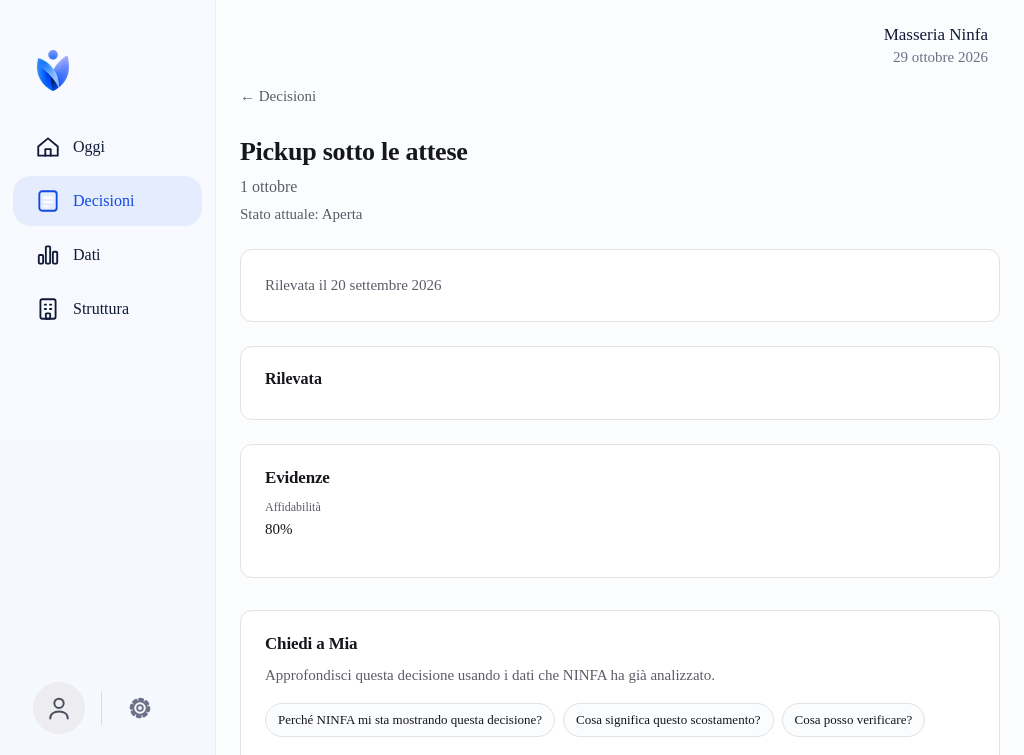
DecisionDetailScreen - the sidebar shell (Home UI V1) › keeps logout reachable through the profile menu
The width and height of the screenshot is (1024, 755).
Check: the heading "Pickup sotto le attese" is shown, box [240,137,468,166]
Click the button named "Profilo e account".
click(59, 708)  # box [33,682,85,734]
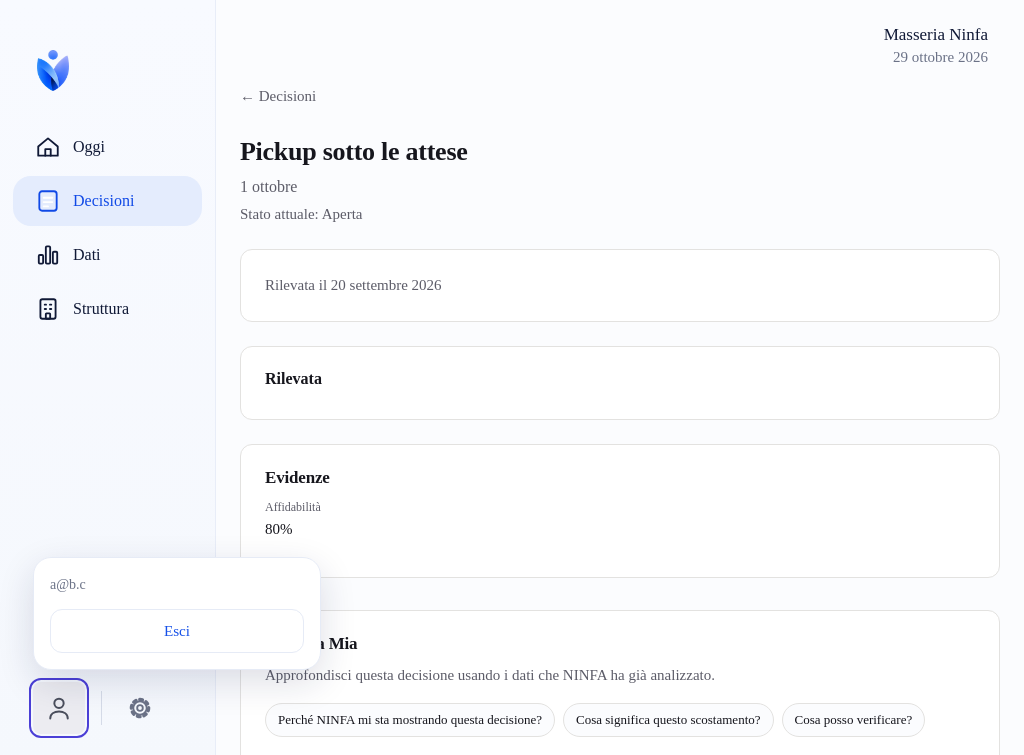
Check: the button "Esci" is shown, box [50,609,304,653]
